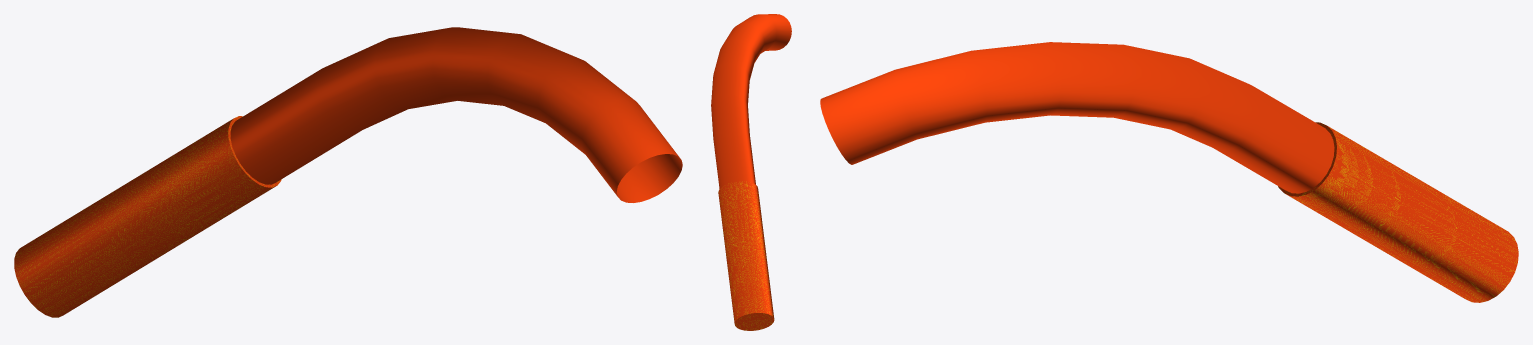
The model's file is original-3.obj.
3 renders of one model, left to right at view 1: azimuth 30°, elevation 25°; view 2: azimuth 150°, elevation 25°; view 3: azimuth 270°, elevation 25°, orthographic. The views are drawn at different scales.
Parts seen in each view (by area): view 1: Group4/mesh1/mesh1-geometry#mesh1-geometry; view 2: Group4/mesh1/mesh1-geometry#mesh1-geometry; view 3: Group4/mesh1/mesh1-geometry#mesh1-geometry.
Part boxes in pixels (box(x1,y1,x2,y2)): Group4/mesh1/mesh1-geometry#mesh1-geometry: box(14, 27, 682, 317); Group4/mesh1/mesh1-geometry#mesh1-geometry: box(711, 14, 791, 330); Group4/mesh1/mesh1-geometry#mesh1-geometry: box(820, 42, 1518, 302).
Bounding box in the file's own units: 0.2031 × 0.2089 × 0.3557.
